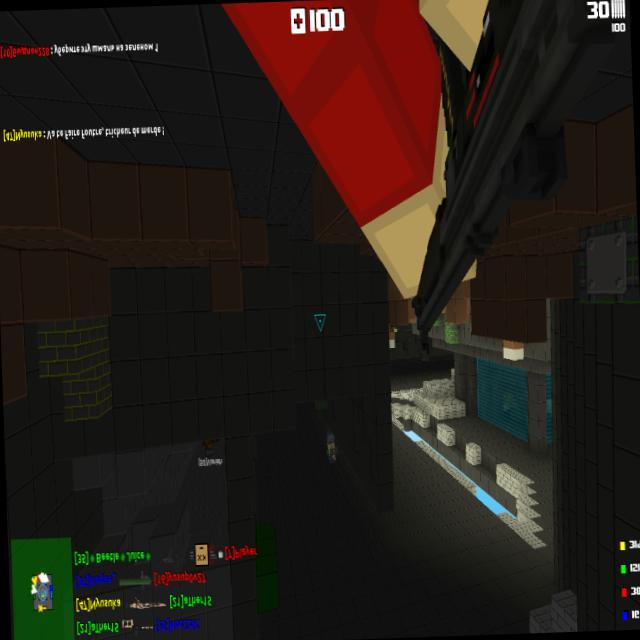enemy: (325, 426, 338, 465)
